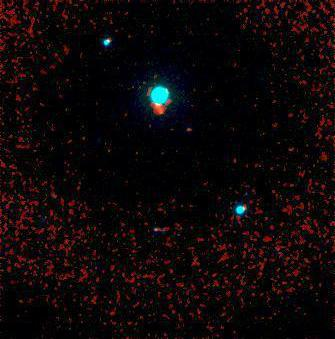star: (145, 95, 175, 125)
